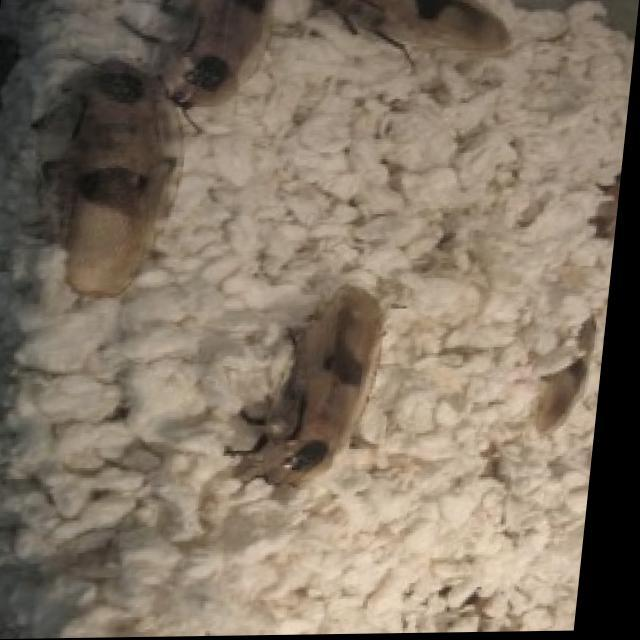cockroach: (219, 280, 392, 500)
